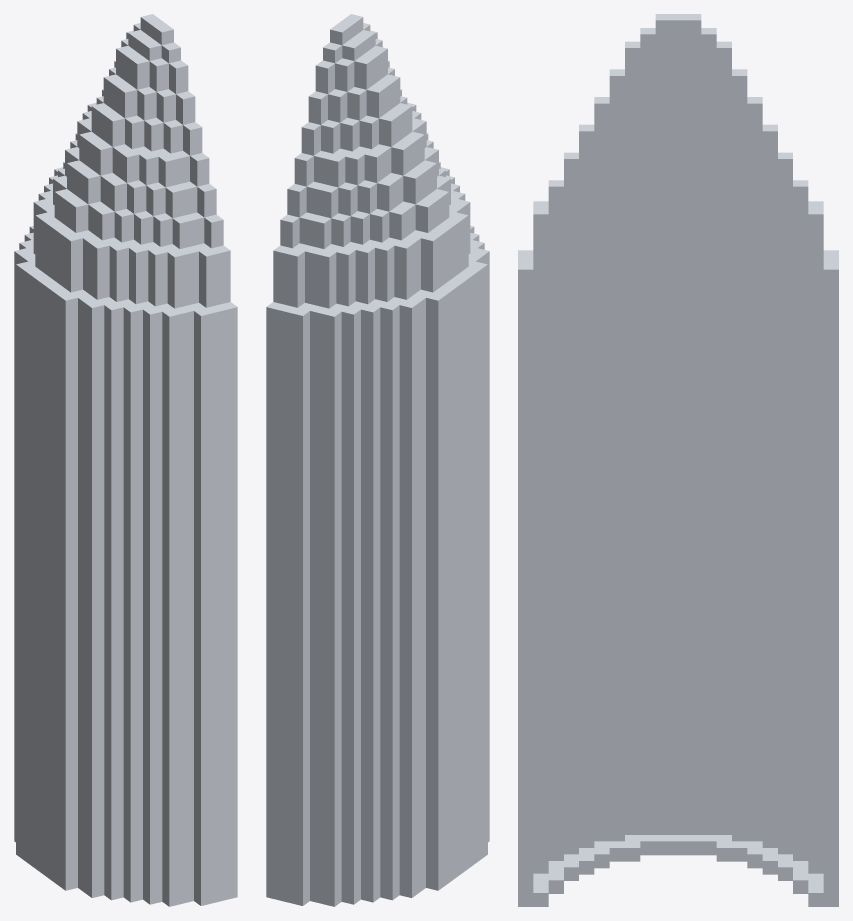
File: Lake_IV_fairing_open.obj
3 renders of one model, left to right at view 1: azimuth 30°, elevation 25°; view 2: azimuth 150°, elevation 25°; view 3: azimuth 270°, elevation 25°, orthographic. The views are drawn at different scales.
Bounding box in the file's own units: 1 × 6.4 × 2.1.
Materials: 1 (1 with a texture image).
